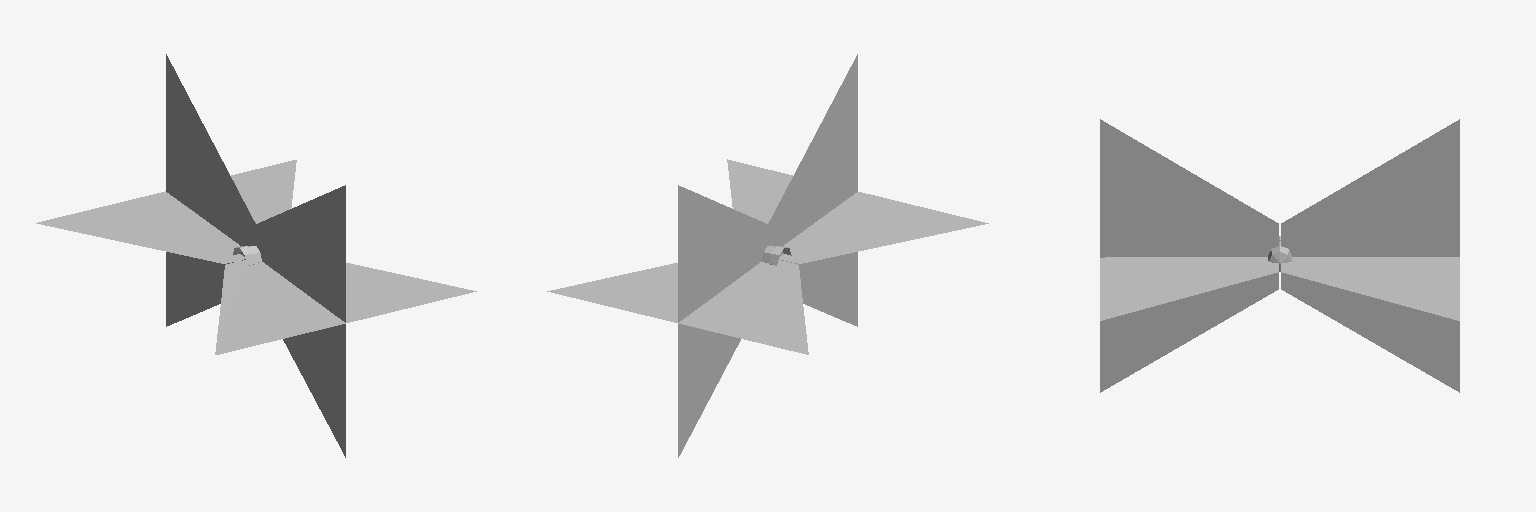
The model's file is stg400_MotRotlightA_w7_23.obj.
3 views of the same model, side by side, from view 1: azimuth 30°, elevation 25°; view 2: azimuth 150°, elevation 25°; view 3: azimuth 270°, elevation 25° (orthographic).
Parts seen in each view (by area): view 1: polygon4; view 2: polygon4; view 3: polygon4.
Part boxes in pixels (x1,y1,x2,y2): polygon4: (36, 54, 476, 457); polygon4: (547, 54, 988, 457); polygon4: (1100, 119, 1459, 392).
Size of the model in its own units: 91.26 by 91.26 by 109.